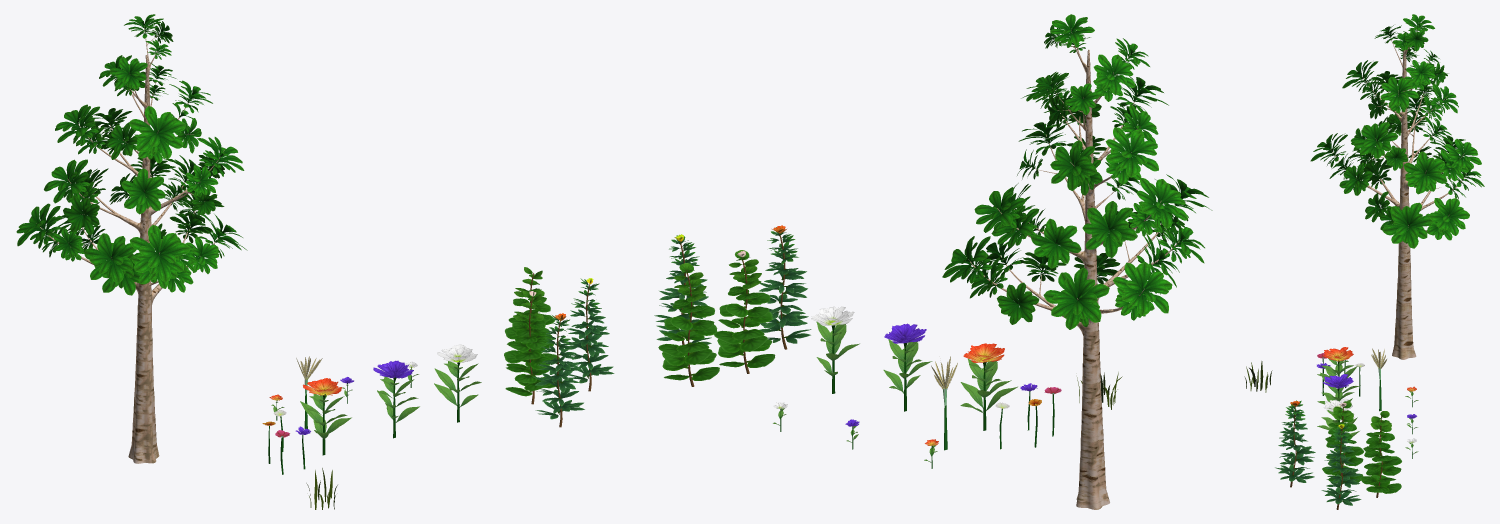
File: Foliage for 3d scene-1.fbx
The picture shows the model from 3 angles, left to right: view 1: azimuth 30°, elevation 25°; view 2: azimuth 150°, elevation 25°; view 3: azimuth 270°, elevation 25°; orthographic projection. The views are drawn at different scales.
Visible parts, largest first — view 1: Tree.001, GPlant1.001, GPlant3.001, GPlant2.001, FPlantR.001, FPlantR.005, GPlant1.002, FPlantR.003; view 2: Tree.001, GPlant1.002, GPlant1.001, GPlant3.001, FPlantR.001, FPlantR.003, FPlantR.005, GPlant2.001; view 3: Tree.001, GPlant1.002, GPlant3.001, GPlant2.001, GPlant1.001, FPlantR.001, FPlantR.003, FPlantR.005, Grass.001, Plant1.001.
Part boxes in pixels (x1,y1,x2,y2): Tree.001: (16,14,247,463); GPlant1.001: (504,291,555,404); GPlant3.001: (532,313,584,427); GPlant2.001: (564,278,614,391); FPlantR.001: (300,378,351,455); FPlantR.005: (434,344,481,422); GPlant1.002: (505,267,559,375); FPlantR.003: (373,360,419,438); Tree.001: (942,14,1212,509); GPlant1.002: (658,263,719,386); GPlant1.001: (714,250,775,373); GPlant3.001: (758,225,811,349); FPlantR.001: (960,343,1017,430); FPlantR.003: (883,323,932,411); FPlantR.005: (811,306,859,393); GPlant2.001: (654,234,711,344); Tree.001: (1310,14,1484,359); GPlant1.002: (1360,411,1401,497); GPlant3.001: (1275,400,1315,487); GPlant2.001: (1321,423,1361,509); GPlant1.001: (1322,401,1363,482); FPlantR.001: (1317,347,1360,393); FPlantR.003: (1317,374,1354,422); FPlantR.005: (1317,398,1359,441); Grass.001: (1244,361,1272,392); Plant1.001: (1371,348,1386,411).
Size of the model in its own units: 873 by 688 by 442.
